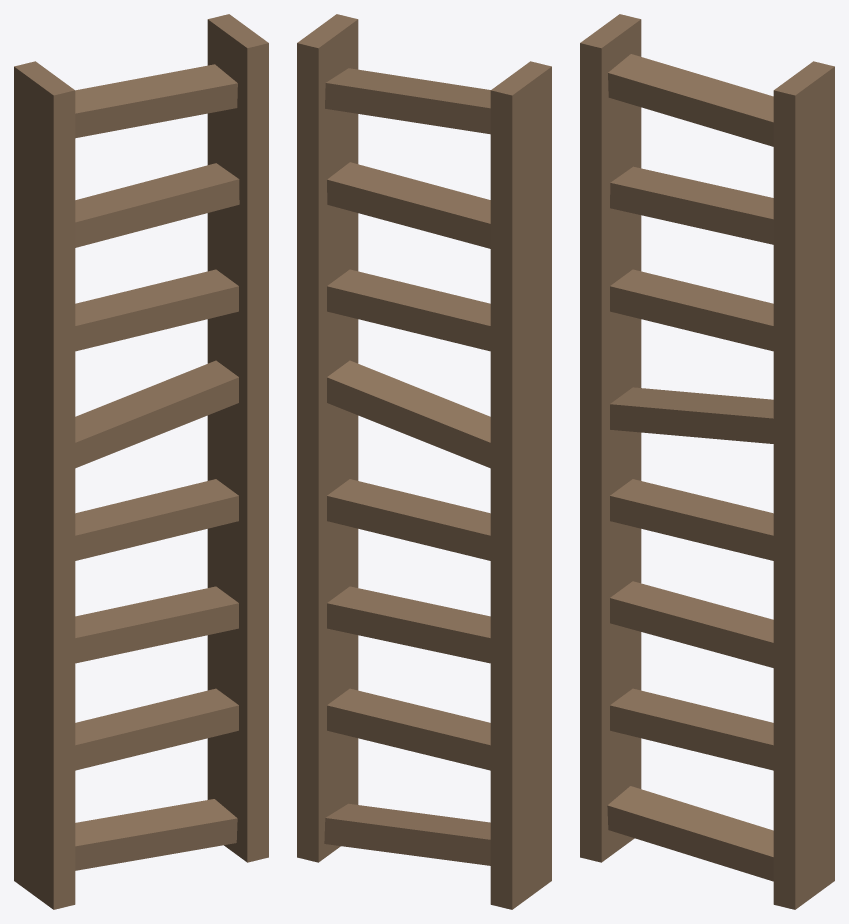
The model's file is Escada.fbx.
3 views of the same model, side by side, from view 1: azimuth 30°, elevation 25°; view 2: azimuth 150°, elevation 25°; view 3: azimuth 330°, elevation 25° (orthographic).
Visible parts, largest first — view 1: Cube.025; view 2: Cube.025; view 3: Cube.025.
Part boxes in pixels (x1,y1,x2,y2): Cube.025: (14,14,268,909); Cube.025: (297,14,551,909); Cube.025: (580,14,834,909).
Bounding box in the file's own units: 73.09 × 264 × 23.36.
